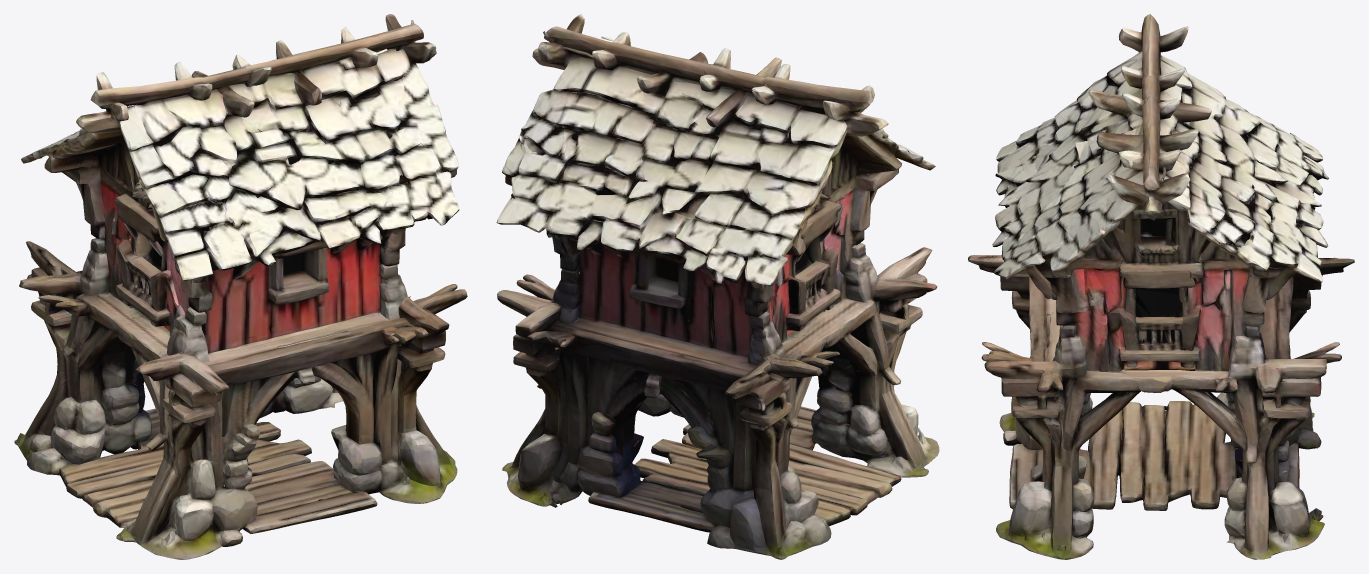
File: orc_longhouse_01.glb
3 renders of one model, left to right at view 1: azimuth 30°, elevation 25°; view 2: azimuth 150°, elevation 25°; view 3: azimuth 270°, elevation 25°, orthographic. The views are drawn at different scales.
Visible parts, largest first — view 1: geometry_0; view 2: geometry_0; view 3: geometry_0.
Part boxes in pixels (box(x1,y1,x2,y2)): geometry_0: box(14, 14, 467, 559); geometry_0: box(496, 14, 939, 559); geometry_0: box(968, 14, 1354, 559).
Bounding box in the file's own units: 0.8985 × 1 × 0.8772.
Materials: 1 (1 with a texture image).
